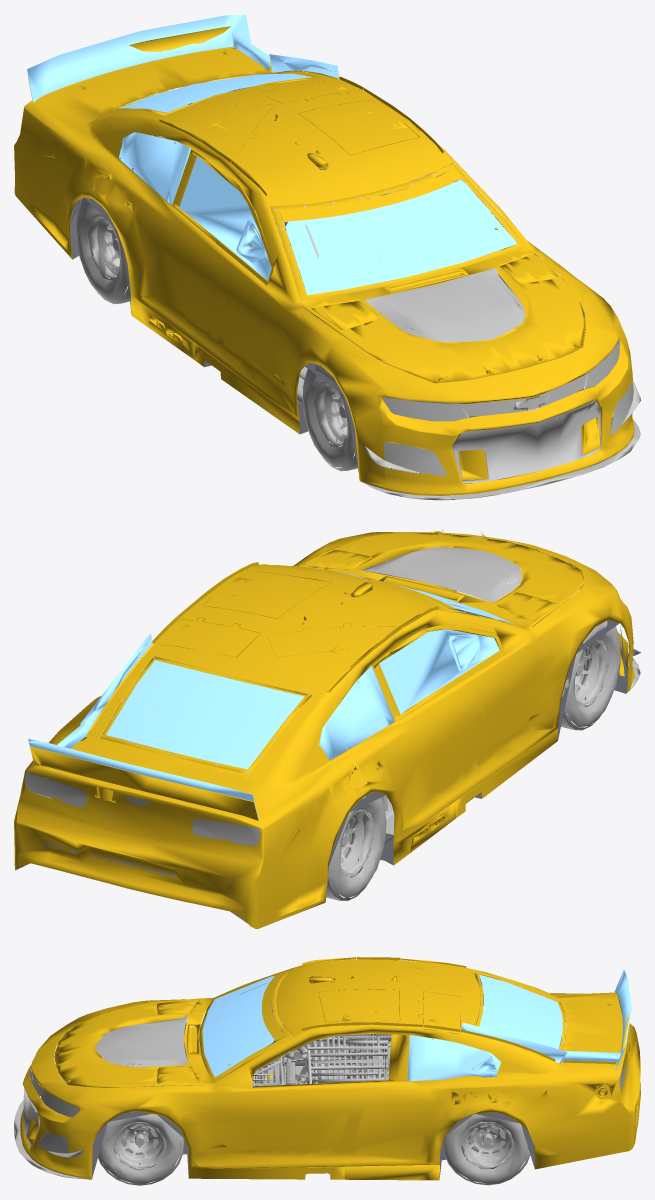
File: camaro_zl1.glb
3 renders of one model, top to bottom at view 1: azimuth 30°, elevation 25°; view 2: azimuth 150°, elevation 25°; view 3: azimuth 270°, elevation 25°, orthographic. The views are drawn at different scales.
Parts seen in each view (by area): view 1: cColoured_Geo_lodA_Coloured_Geo_lodA_Chevrolet_NASCARCamaroZ, cWindowInside_Geo_lodA_WindowInside_Geo_lodA_Chevrolet_NASCA, cCarbon2_Geo_lodA_Carbon2_Geo_lodA_Chevrolet_NASCARCamaroZL1, cBase_Geo_lodA_Base_Geo_lodA_Chevrolet_NASCARCamaroZL1_2020B; view 2: cColoured_Geo_lodA_Coloured_Geo_lodA_Chevrolet_NASCARCamaroZ, cWindowInside_Geo_lodA_WindowInside_Geo_lodA_Chevrolet_NASCA, cCarbon2_Geo_lodA_Carbon2_Geo_lodA_Chevrolet_NASCARCamaroZL1, cBase_Geo_lodA_Base_Geo_lodA_Chevrolet_NASCARCamaroZL1_2020B; view 3: cColoured_Geo_lodA_Coloured_Geo_lodA_Chevrolet_NASCARCamaroZ, cCarbon2_Geo_lodA_Carbon2_Geo_lodA_Chevrolet_NASCARCamaroZL1, cWindowInside_Geo_lodA_WindowInside_Geo_lodA_Chevrolet_NASCA, cBase_Geo_lodA_Base_Geo_lodA_Chevrolet_NASCARCamaroZL1_2020B.
Boxes of the visible parts, x1,y1,x2,y2 form: cColoured_Geo_lodA_Coloured_Geo_lodA_Chevrolet_NASCARCamaroZ: (14,26,634,495); cWindowInside_Geo_lodA_WindowInside_Geo_lodA_Chevrolet_NASCA: (27,14,517,295); cCarbon2_Geo_lodA_Carbon2_Geo_lodA_Chevrolet_NASCARCamaroZL1: (75,72,640,500); cBase_Geo_lodA_Base_Geo_lodA_Chevrolet_NASCARCamaroZL1_2020B: (70,87,627,496); cColoured_Geo_lodA_Coloured_Geo_lodA_Chevrolet_NASCARCamaroZ: (14,529,634,928); cWindowInside_Geo_lodA_WindowInside_Geo_lodA_Chevrolet_NASCA: (28,567,513,819); cCarbon2_Geo_lodA_Carbon2_Geo_lodA_Chevrolet_NASCARCamaroZL1: (25,547,640,901); cBase_Geo_lodA_Base_Geo_lodA_Chevrolet_NASCARCamaroZL1_2020B: (18,561,628,922); cColoured_Geo_lodA_Coloured_Geo_lodA_Chevrolet_NASCARCamaroZ: (20,957,640,1180); cCarbon2_Geo_lodA_Carbon2_Geo_lodA_Chevrolet_NASCARCamaroZL1: (14,969,625,1185); cWindowInside_Geo_lodA_WindowInside_Geo_lodA_Chevrolet_NASCA: (202,970,631,1081); cBase_Geo_lodA_Base_Geo_lodA_Chevrolet_NASCARCamaroZL1_2020B: (24,994,601,1180).
Size of the model in its own units: 1.87 by 1.45 by 4.82.
